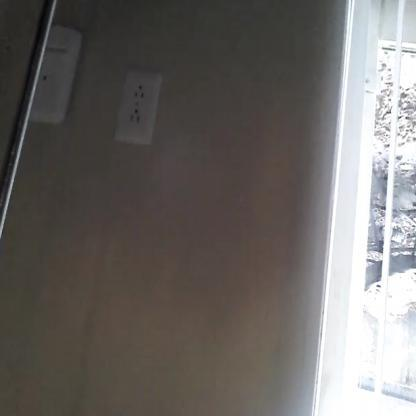OUTLET: (116, 72, 158, 142)
